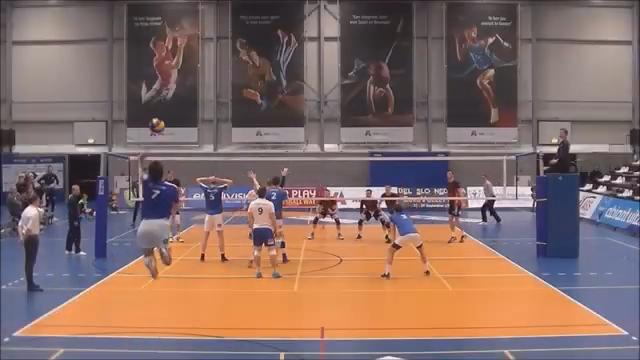battuta: (133, 150, 179, 279)
